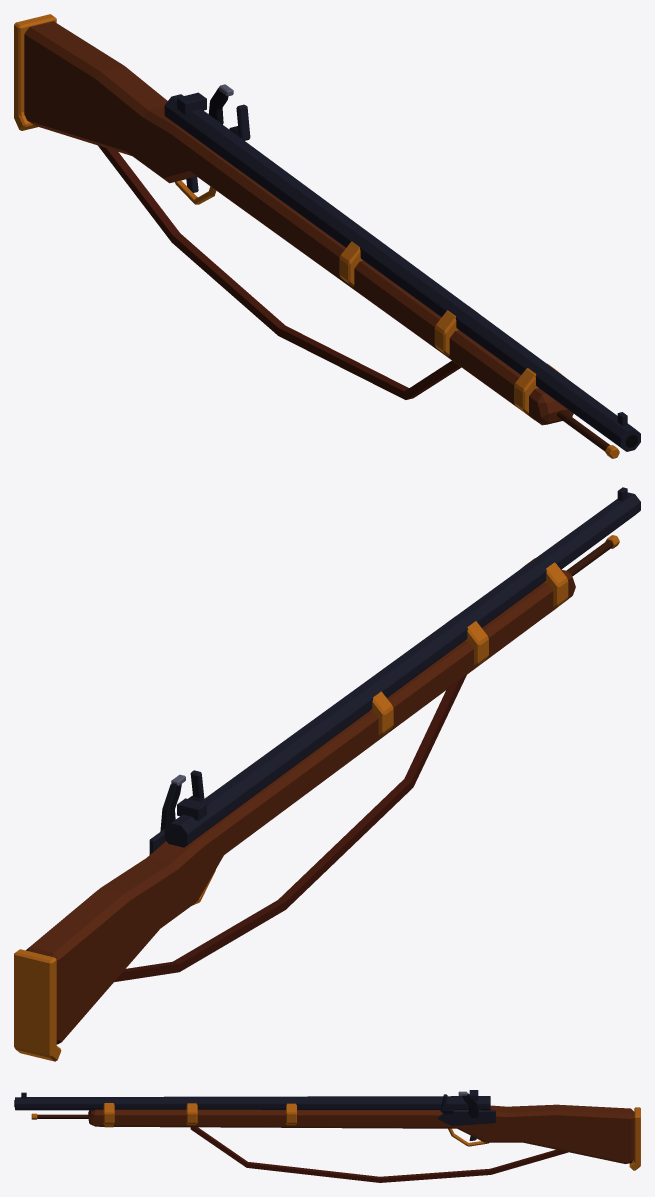
Rendered from myw_musket.obj.
3 views of the same model, one above another, from view 1: azimuth 30°, elevation 25°; view 2: azimuth 150°, elevation 25°; view 3: azimuth 270°, elevation 25° (orthographic). The views are drawn at different scales.
Visible parts, largest first — view 1: Stock, Barrel, Sling, Brass, Ramrod; view 2: Stock, Barrel, Brass, Sling; view 3: Stock, Barrel, Sling, Brass, Lock, Ramrod, Hammer.
Part boxes in pixels (box(x1,y1,x2,y2)): Stock: box(24, 21, 573, 425); Barrel: box(164, 92, 640, 451); Sling: box(98, 145, 461, 399); Brass: box(14, 14, 562, 419); Ramrod: box(557, 410, 619, 458); Stock: box(26, 569, 575, 1044); Barrel: box(164, 487, 640, 847); Brass: box(14, 558, 568, 1061); Sling: box(114, 675, 466, 982); Stock: box(88, 1104, 634, 1163); Barrel: box(14, 1090, 490, 1110); Sling: box(190, 1127, 568, 1182); Brass: box(103, 1103, 640, 1170); Lock: box(438, 1094, 495, 1125); Ramrod: box(31, 1113, 88, 1119); Hammer: box(458, 1091, 479, 1117).
Bounding box in the file's own units: 0.2847 × 0.9562 × 5.67.
